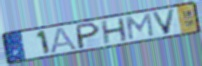1: (36, 29, 52, 56)
A: (50, 26, 79, 54)
H: (100, 16, 129, 46)
M: (125, 12, 156, 41)
P: (76, 21, 102, 51)
V: (150, 8, 177, 36)
